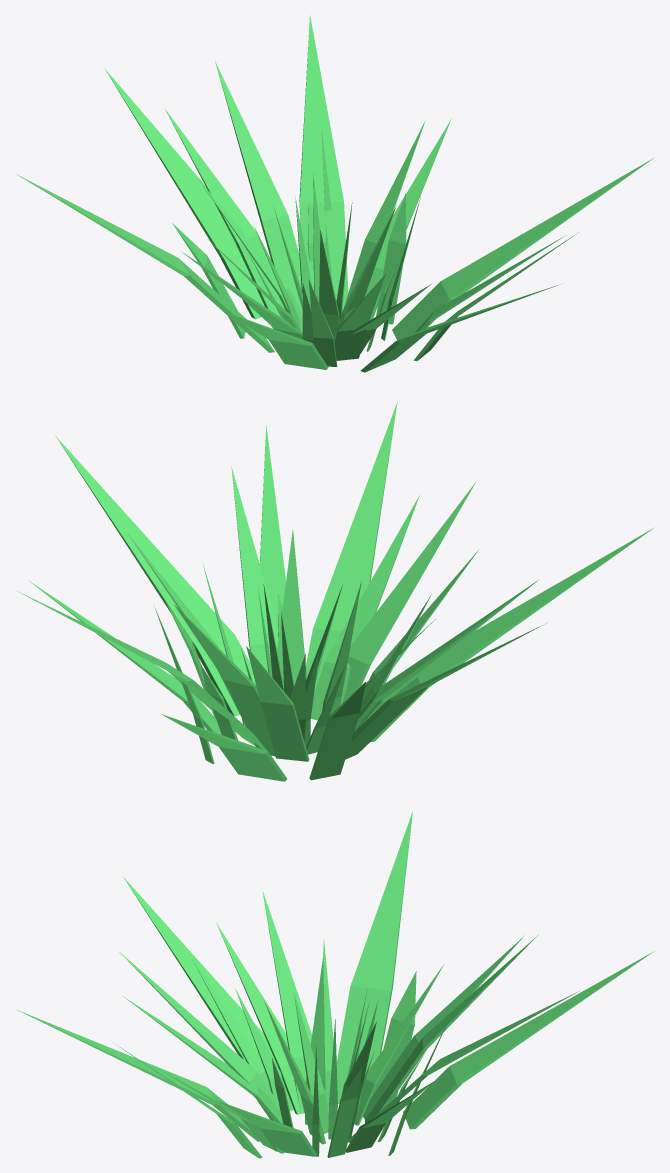
File: Grass.glb
The picture shows the model from 3 angles, top to bottom: view 1: azimuth 30°, elevation 25°; view 2: azimuth 150°, elevation 25°; view 3: azimuth 270°, elevation 25°; orthographic projection. The views are drawn at different scales.
Parts seen in each view (by area): view 1: Cube.034, Cube.016, Cube, Cube.013, Cube.025, Cube.008, Cube.012, Cube.017, Cube.005, Cube.033, Cube.001, Cube.010 (+11 smaller); view 2: Cube.010, Cube.013, Cube.005, Cube.012, Cube.029, Cube.030, Cube.025, Cube.004, Cube, Cube.009, Cube.016, Cube.006 (+14 smaller); view 3: Cube.008, Cube.016, Cube.012, Cube.002, Cube.027, Cube.010, Cube.005, Cube, Cube.025, Cube.013, Cube.019, Cube.030 (+16 smaller).
Part boxes in pixels (left/top/right/bottom): Cube.034: left=299, top=15, right=348, bottom=310; Cube.016: left=104, top=68, right=264, bottom=319; Cube: left=215, top=61, right=302, bottom=314; Cube.013: left=392, top=157, right=654, bottom=340; Cube.025: left=165, top=109, right=284, bottom=317; Cube.008: left=16, top=174, right=274, bottom=352; Cube.012: left=223, top=311, right=328, bottom=369; Cube.017: left=343, top=121, right=425, bottom=308; Cube.005: left=334, top=274, right=385, bottom=360; Cube.033: left=366, top=118, right=451, bottom=320; Cube.001: left=376, top=193, right=406, bottom=324; Cube.010: left=360, top=284, right=560, bottom=372; Cube.010: left=306, top=402, right=397, bottom=693; Cube.013: left=55, top=436, right=255, bottom=716; Cube.005: left=342, top=482, right=475, bottom=703; Cube.012: left=371, top=527, right=654, bottom=741; Cube.029: left=231, top=466, right=278, bottom=671; Cube.030: left=311, top=495, right=419, bottom=720; Cube.025: left=246, top=646, right=309, bottom=761; Cube.004: left=259, top=425, right=285, bottom=627; Cube: left=174, top=604, right=275, bottom=756; Cube.009: left=309, top=682, right=365, bottom=780; Cube.016: left=161, top=714, right=287, bottom=781; Cube.006: left=277, top=529, right=306, bottom=685; Cube.008: left=336, top=811, right=412, bottom=1103; Cube.016: left=403, top=951, right=654, bottom=1129; Cube.012: left=123, top=877, right=277, bottom=1066; Cube.002: left=262, top=891, right=311, bottom=1113; Cube.027: left=216, top=923, right=301, bottom=1114; Cube.010: left=15, top=1009, right=259, bottom=1141; Cube.005: left=119, top=952, right=279, bottom=1121; Cube: left=365, top=935, right=537, bottom=1123; Cube.025: left=363, top=935, right=524, bottom=1119; Cube.013: left=218, top=1101, right=316, bottom=1156; Cube.019: left=354, top=965, right=443, bottom=1125; Cube.030: left=123, top=996, right=282, bottom=1123.
Size of the model in its own units: 5.64 by 2.08 by 6.08.
